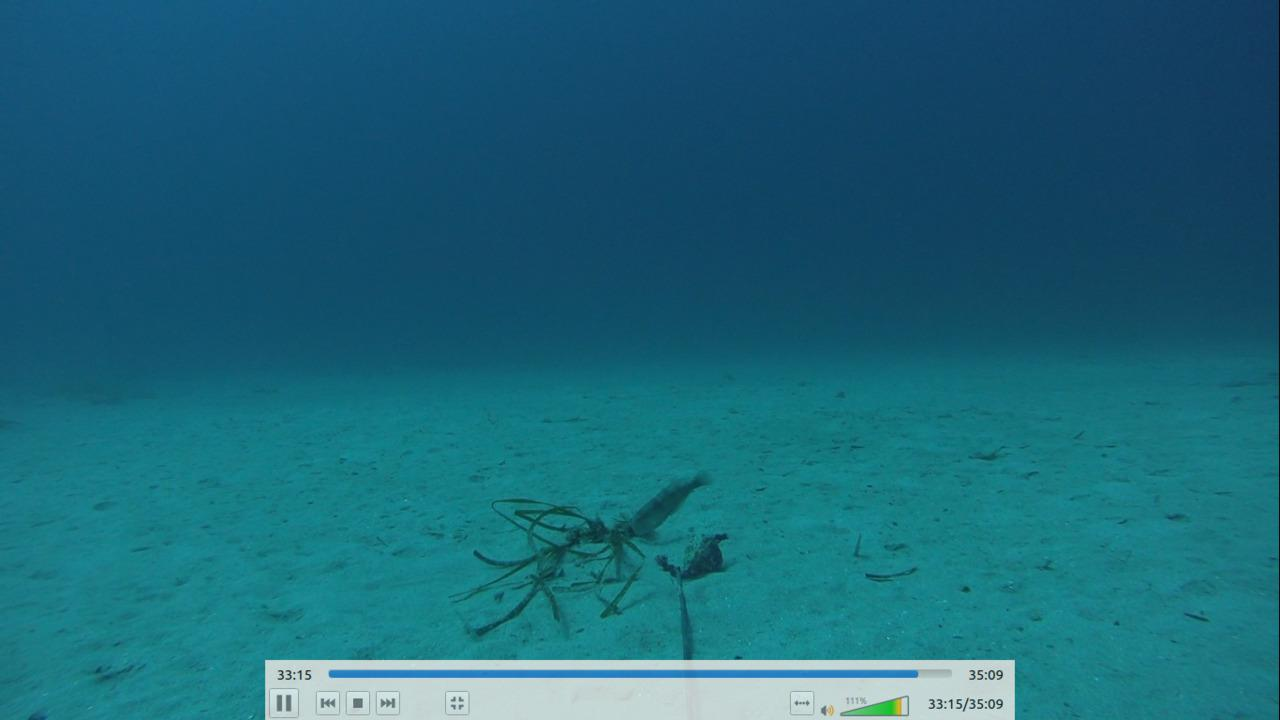raor: (624, 466, 715, 540)
